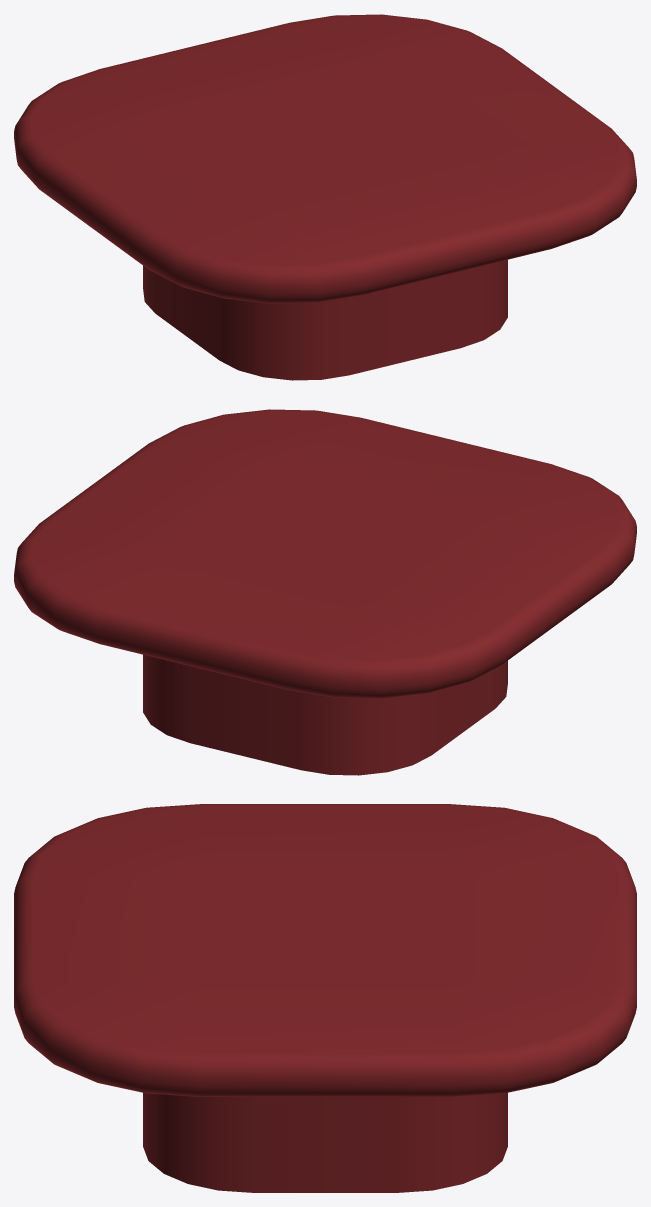
File: CoffeeTable_Sq_Plastic1.glb
3 renders of one model, top to bottom at view 1: azimuth 30°, elevation 25°; view 2: azimuth 150°, elevation 25°; view 3: azimuth 270°, elevation 25°, orthographic. The views are drawn at different scales.
Visible parts, largest first — view 1: Cube.007, Cube; view 2: Cube.007, Cube; view 3: Cube.007, Cube.
Boxes of the visible parts, <box> form: Cube.007: <box>14,14,636,303</box>; Cube: <box>143,259,507,380</box>; Cube.007: <box>14,409,636,698</box>; Cube: <box>143,654,507,775</box>; Cube.007: <box>14,804,636,1096</box>; Cube: <box>143,1093,507,1192</box>.
Size of the model in its own units: 1.53 by 0.5061 by 1.53.
1 material, 1 textured.
